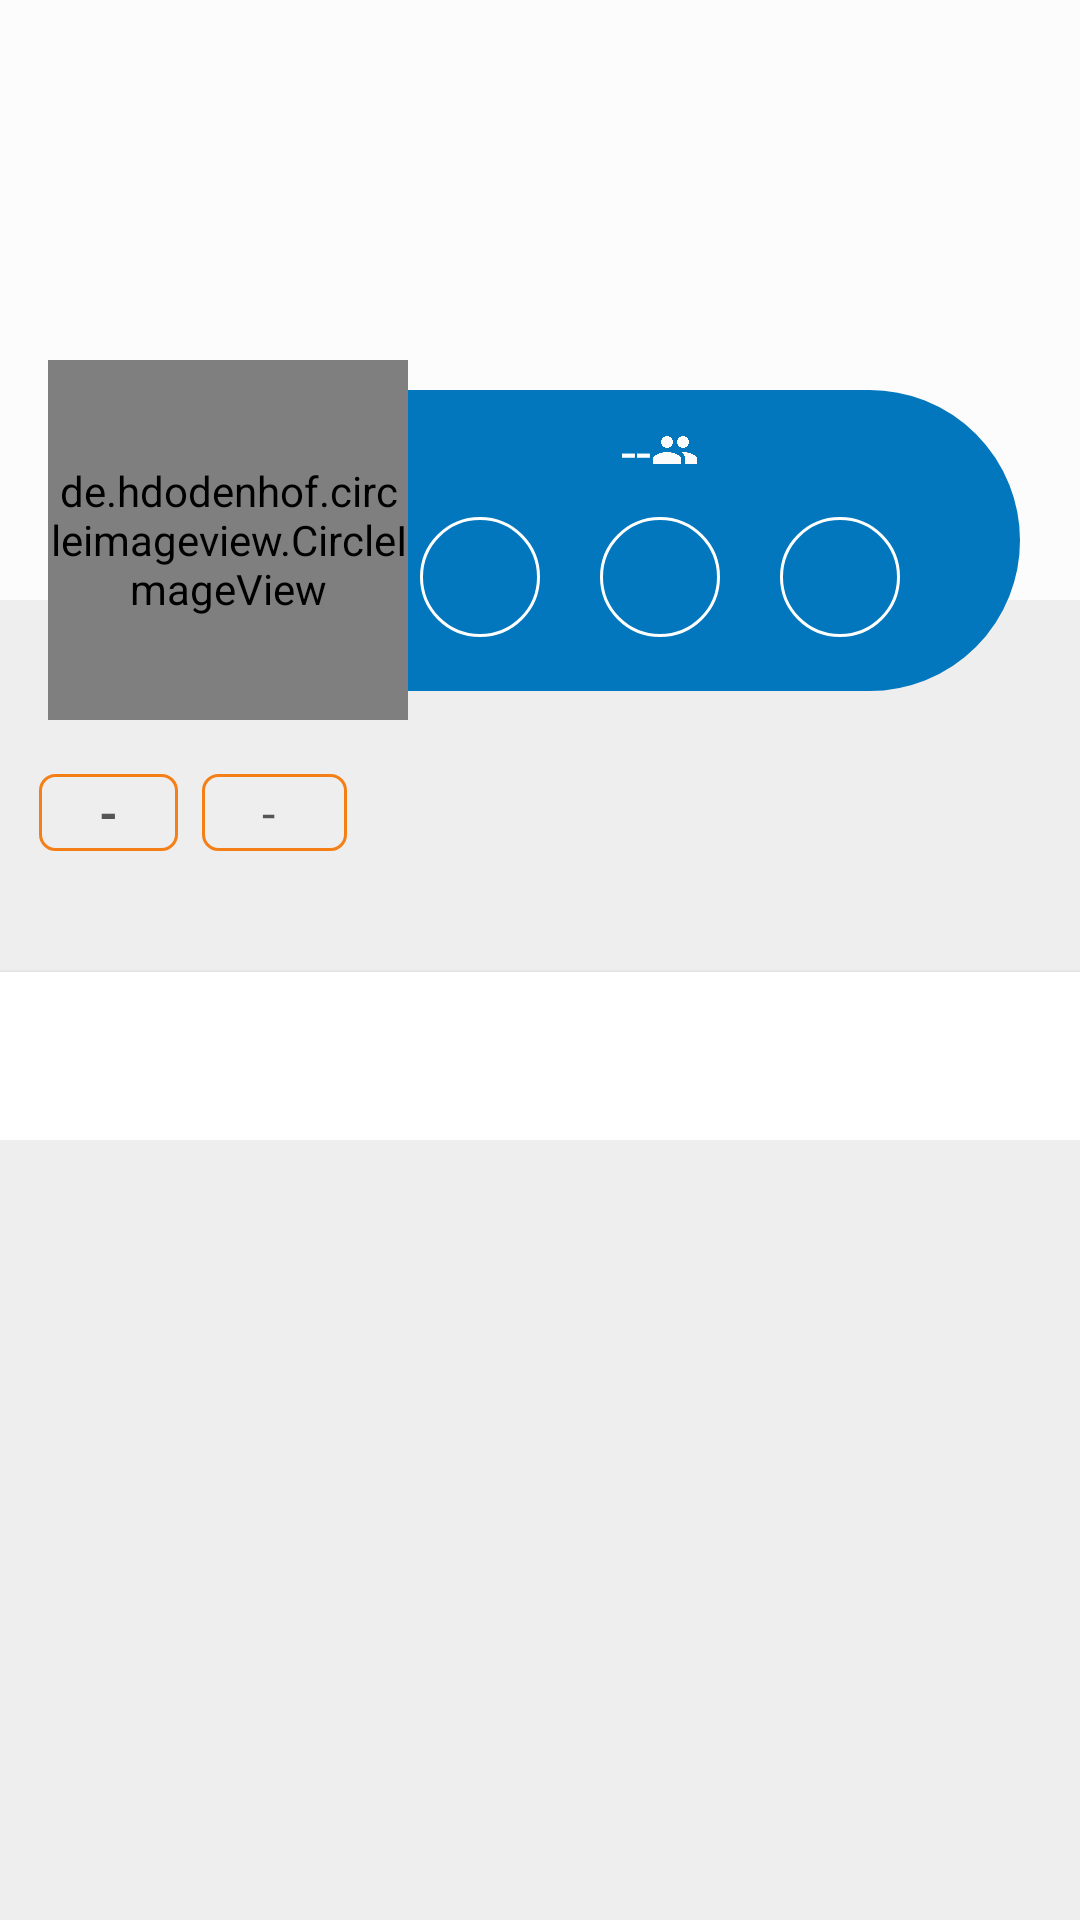

Point at icon controls on the screen. Image size 1080px x 1920px, points as (x=x, y=y).
people: (x=675, y=450)
